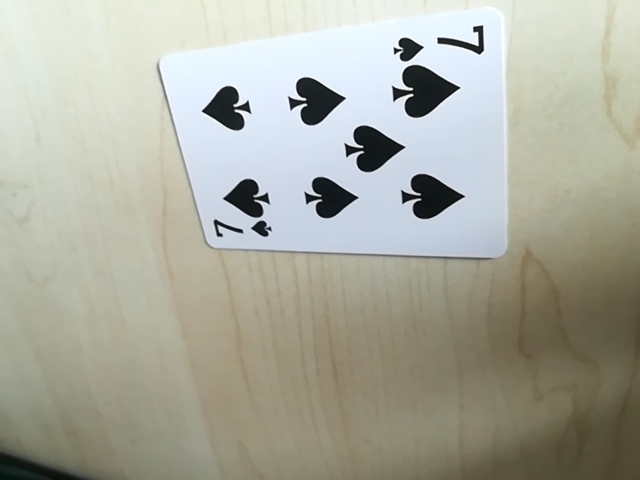ht 7: (391, 20, 491, 61), (203, 215, 275, 247)
